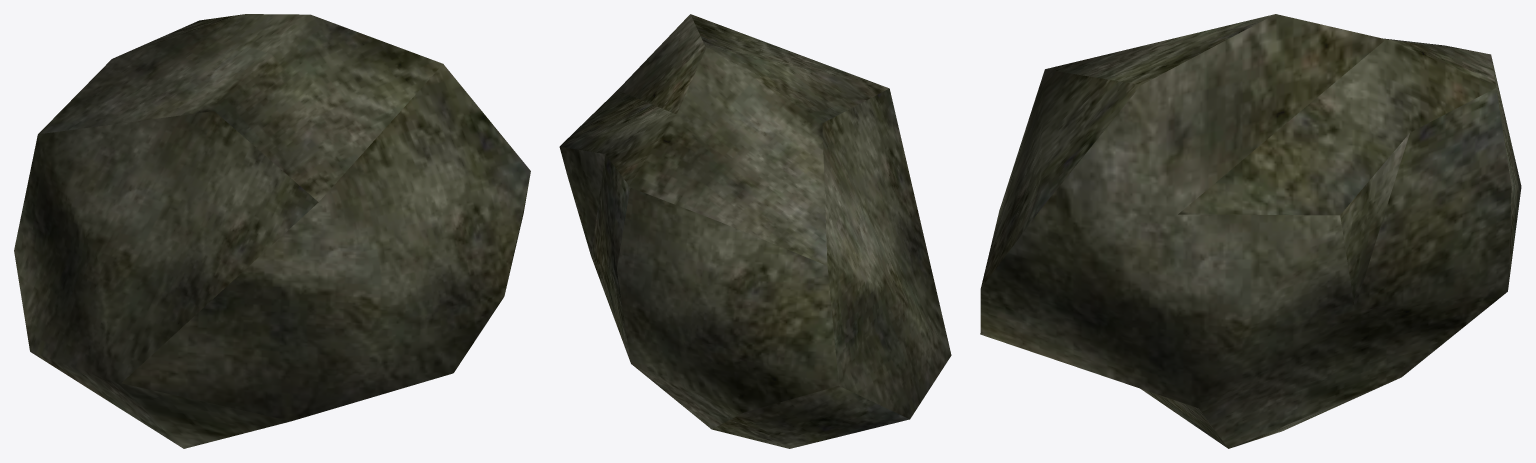
File: MIN_COB_STONE_V1_10.glb
3 renders of one model, left to right at view 1: azimuth 30°, elevation 25°; view 2: azimuth 150°, elevation 25°; view 3: azimuth 270°, elevation 25°, orthographic. The views are drawn at different scales.
Visible parts, largest first — view 1: Mesh; view 2: Mesh; view 3: Mesh.
Boxes of the visible parts, x1,y1,x2,y2 form: Mesh: [14, 14, 530, 448]; Mesh: [559, 14, 951, 448]; Mesh: [980, 14, 1521, 448].
Bounding box in the file's own units: 0.8467 × 0.7816 × 0.8477.
Materials: 1 (1 with a texture image).
